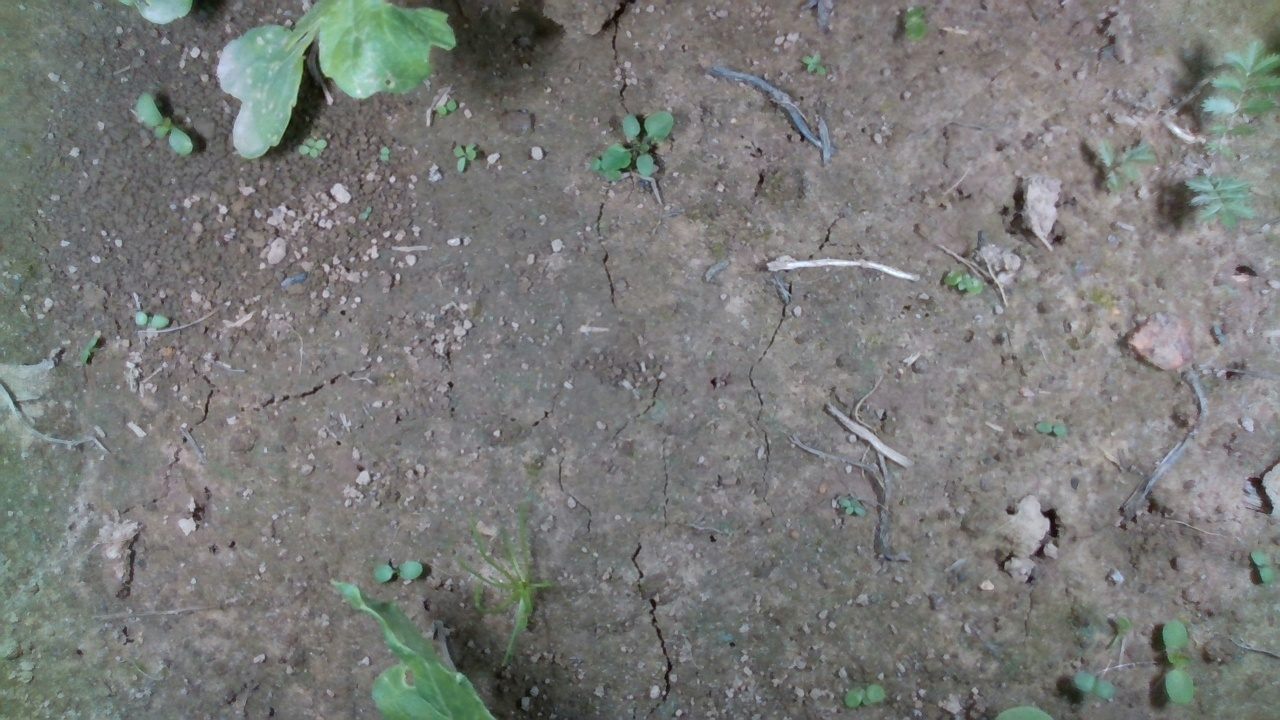weed: (136, 90, 194, 155), (1161, 617, 1196, 706), (370, 559, 424, 586), (941, 269, 986, 296), (1073, 671, 1116, 699), (843, 683, 885, 709), (1249, 548, 1273, 586), (452, 141, 479, 173), (799, 50, 827, 77), (132, 310, 171, 329), (296, 137, 328, 160), (78, 335, 98, 368), (434, 99, 458, 117), (380, 145, 391, 165)
